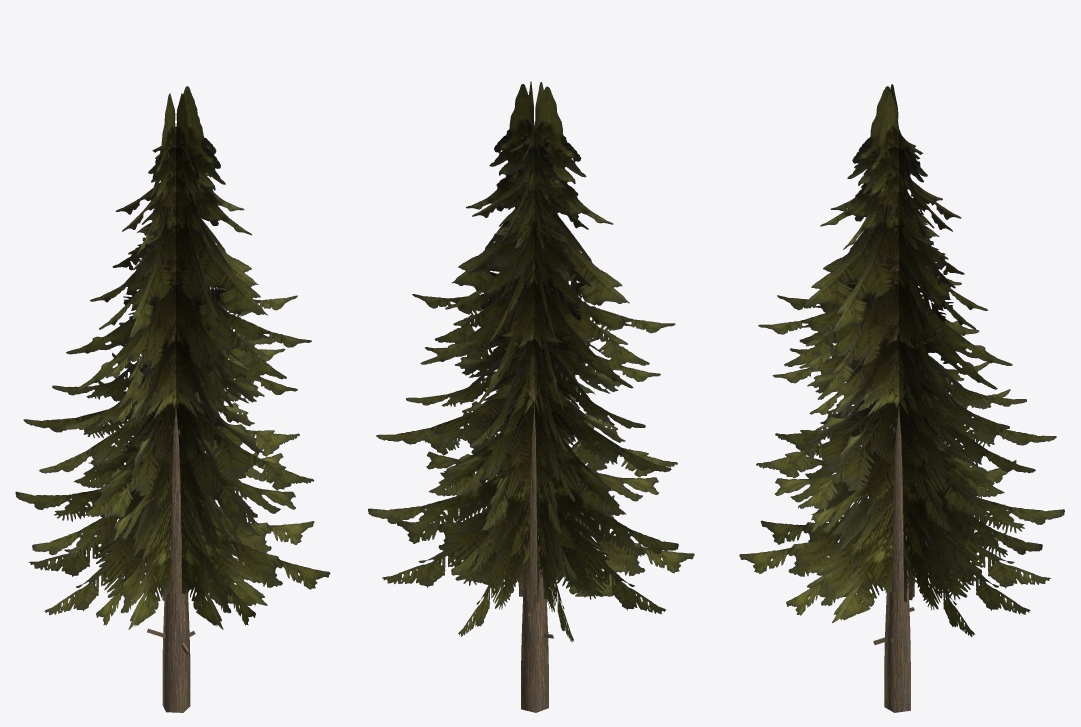
The model's file is arbol.glb.
The picture shows the model from 3 angles, left to right: view 1: azimuth 30°, elevation 25°; view 2: azimuth 150°, elevation 25°; view 3: azimuth 270°, elevation 25°; orthographic projection.
Parts seen in each view (by area): view 1: MeshInstance3D4_0; view 2: MeshInstance3D4_0; view 3: MeshInstance3D4_0.
Part boxes in pixels (x1,y1,x2,y2): MeshInstance3D4_0: (15, 86, 330, 712); MeshInstance3D4_0: (368, 81, 694, 712); MeshInstance3D4_0: (739, 84, 1064, 712).
Size of the model in its own units: 2.15 by 4.4 by 2.15.
Materials: 2 (2 with a texture image).
